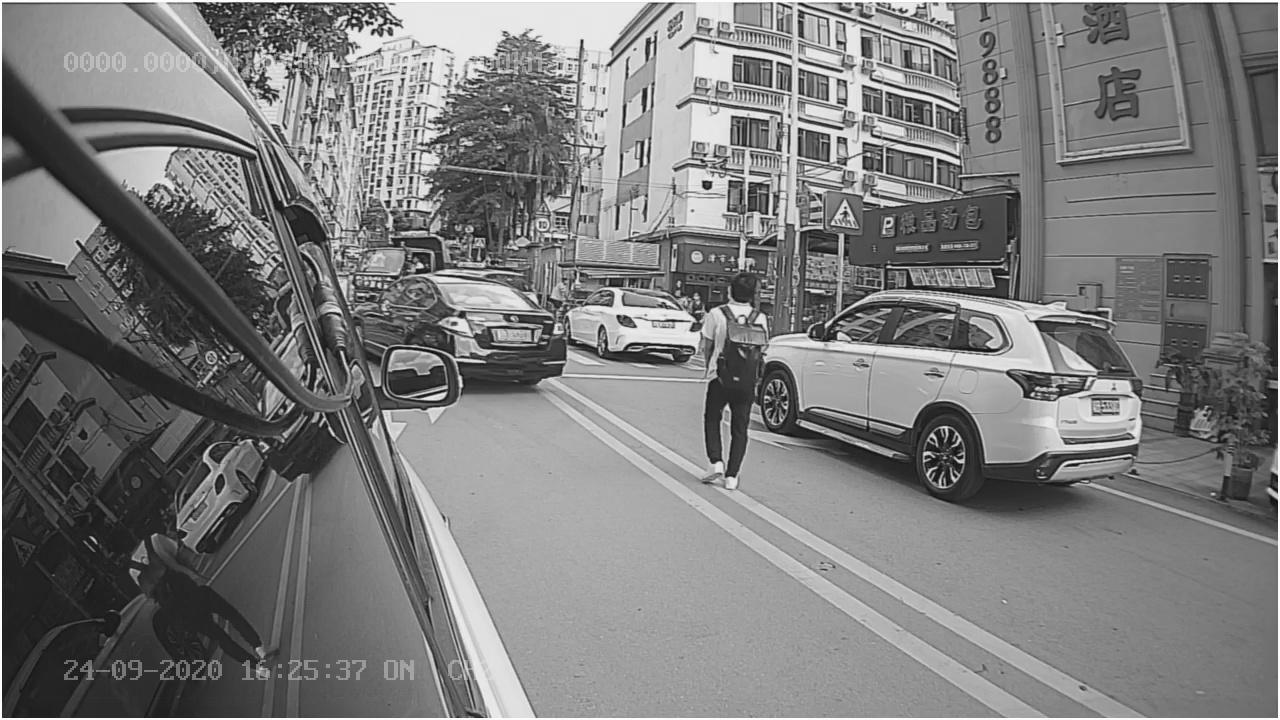person: (674, 265, 795, 515)
